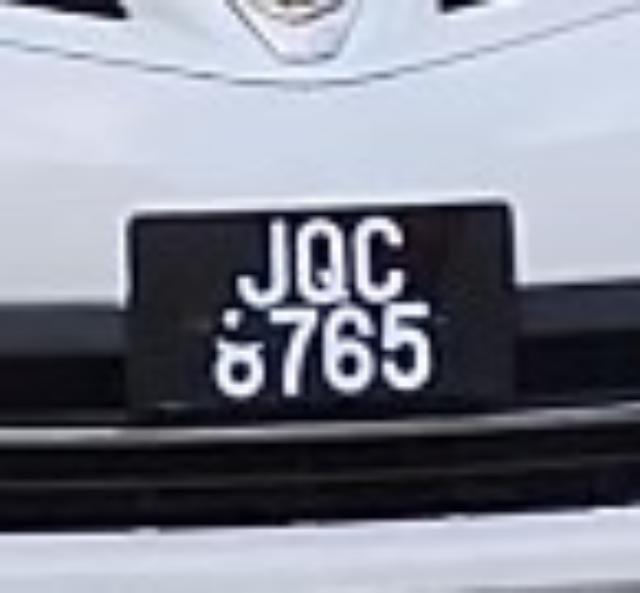License_Plate: (95, 174, 548, 456)
